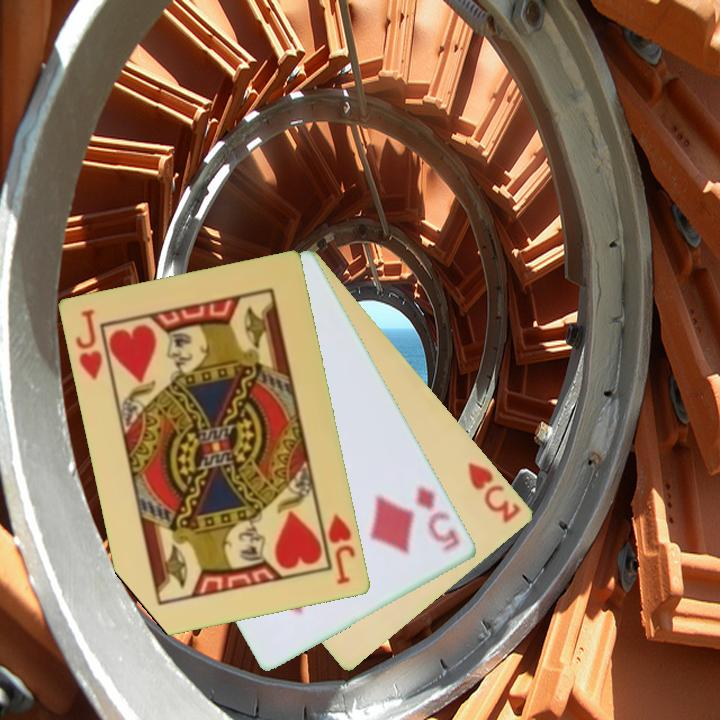3h: (464, 458, 525, 526)
5d: (413, 482, 464, 555)
Jh: (72, 306, 106, 384), (325, 511, 359, 588)
